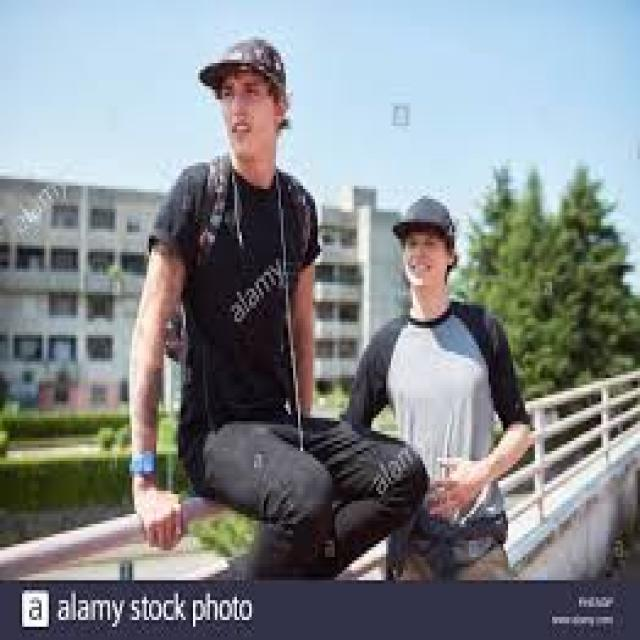cap: (176, 30, 310, 126), (372, 189, 476, 282)
